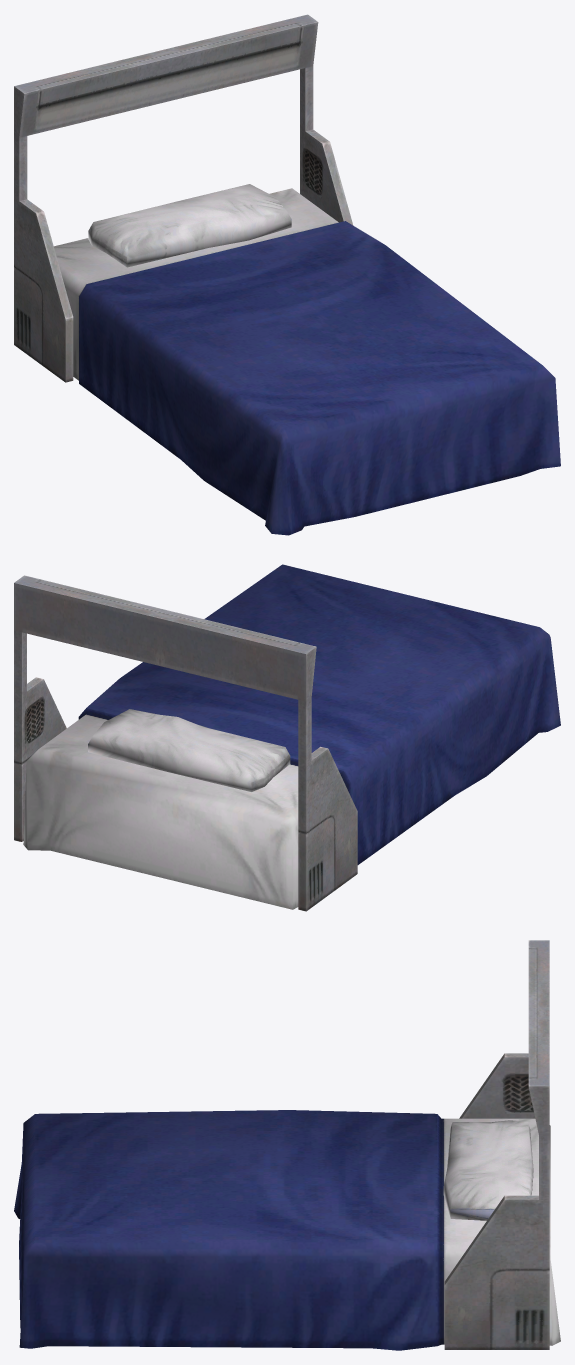
The model's file is frn_all_bed_sm_s2_l0.fbx.
3 renders of one model, top to bottom at view 1: azimuth 30°, elevation 25°; view 2: azimuth 150°, elevation 25°; view 3: azimuth 270°, elevation 25°, orthographic. The views are drawn at different scales.
Visible parts, largest first — view 1: mesh_node; view 2: mesh_node; view 3: mesh_node.
Boxes of the visible parts, x1,y1,x2,y2 form: mesh_node: (14, 14, 560, 535); mesh_node: (14, 564, 560, 911); mesh_node: (14, 940, 560, 1350).
Size of the model in its own units: 1.29 by 1.09 by 2.04.
1 material, 1 textured.
